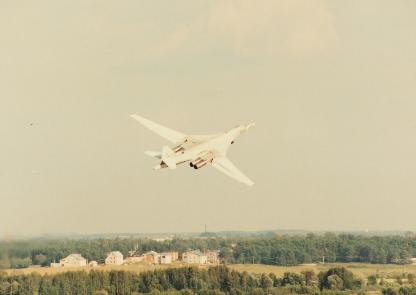Su34: (128, 113, 256, 186)
